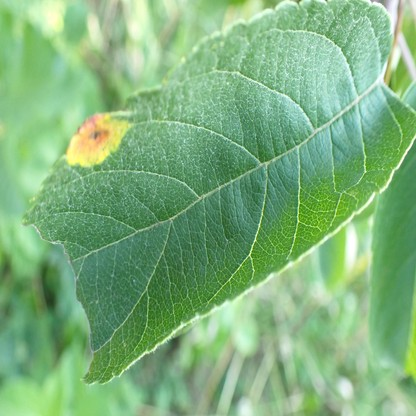rust: (68, 112, 129, 168)
